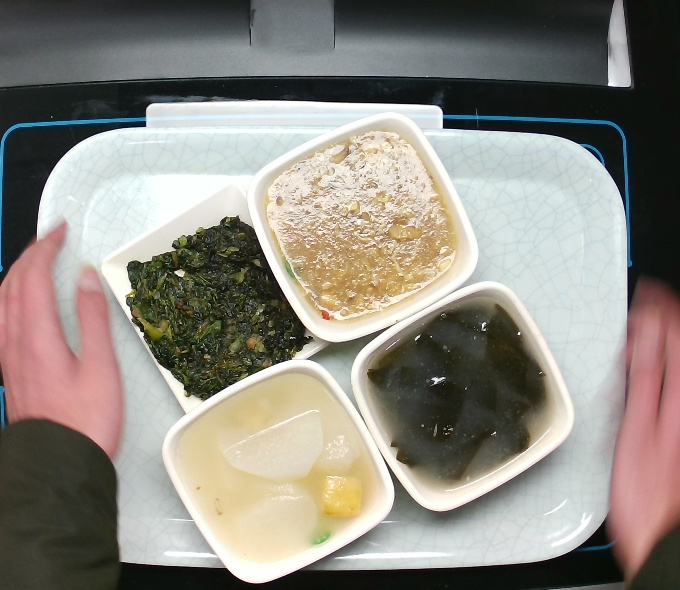wcq-HaiDaiPaiGuTang: (359, 292, 560, 496)
wcq-LuoBoYouPaoTang: (176, 370, 382, 565)
wcq-QinCaiBing: (123, 216, 311, 387)
wcq-SuanLaGeng: (262, 117, 458, 326)
